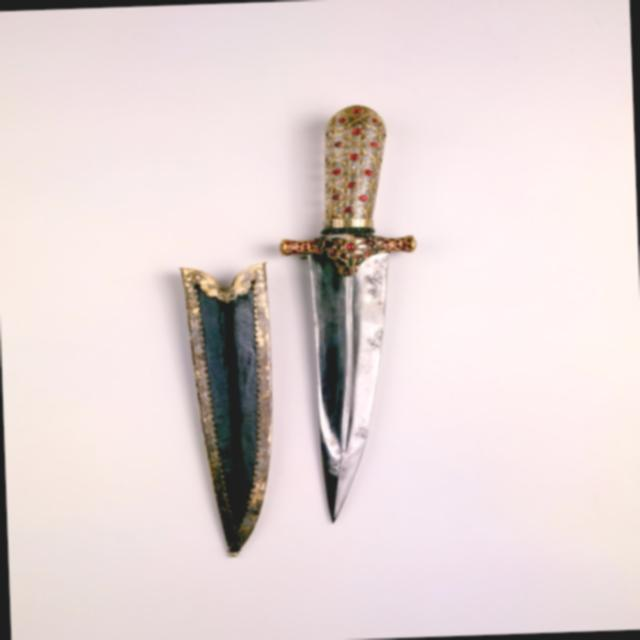short sword: (262, 78, 470, 544)
